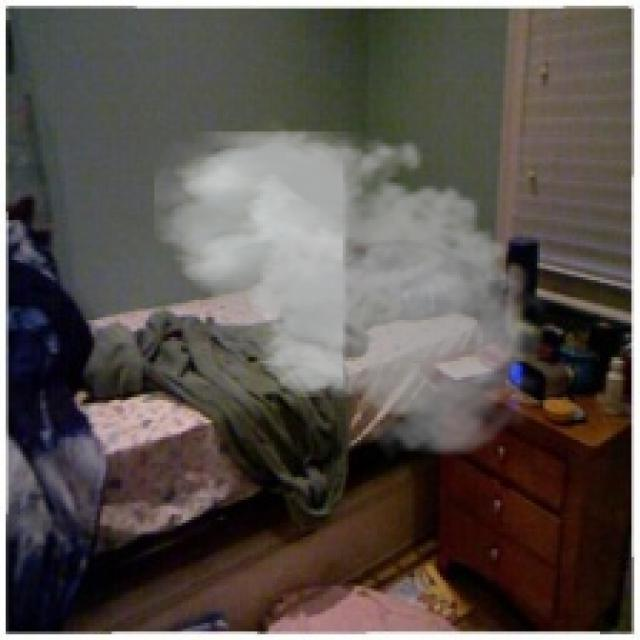Smoke: (154, 117, 557, 463)
